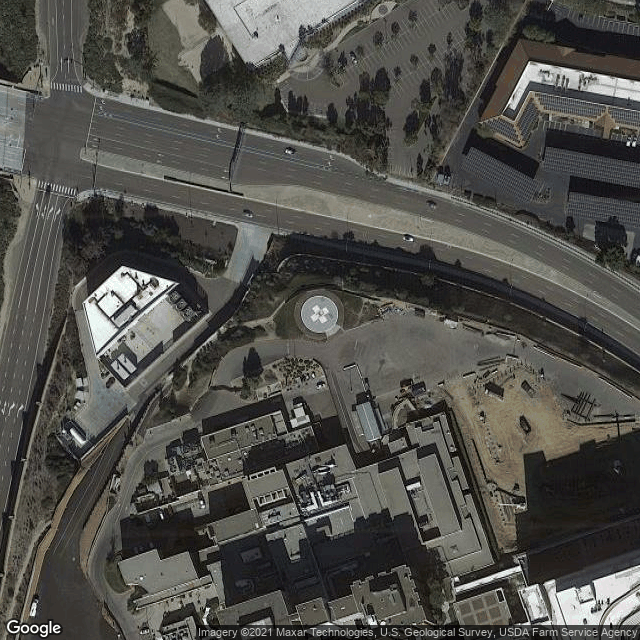Helipad: (298, 293, 342, 336)
